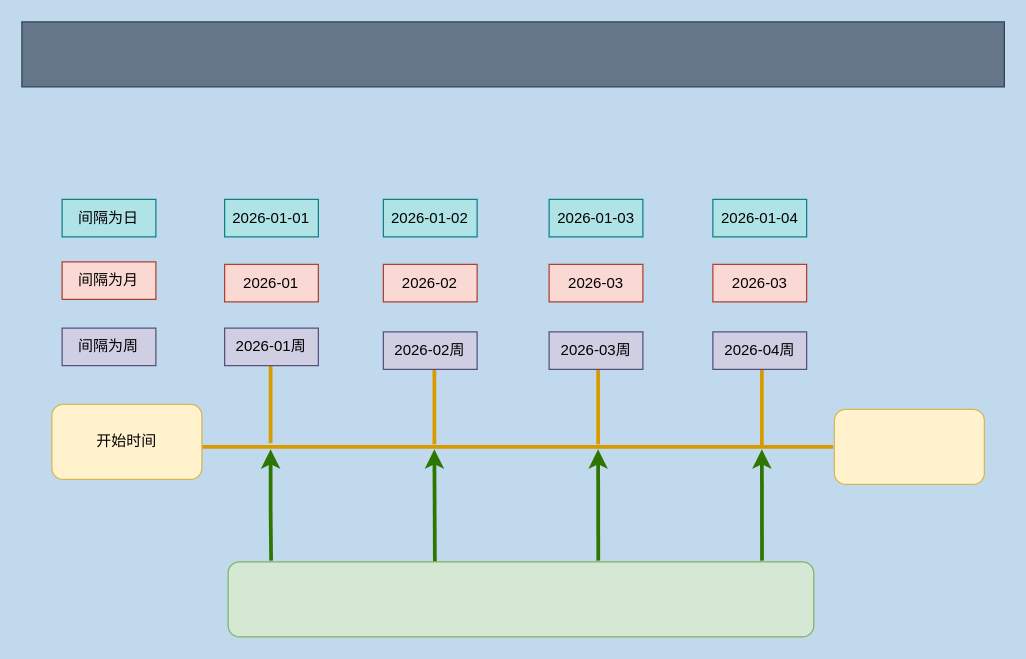
Image size: 1026x659. Some labels were removed from this diagram. Here are the shapes that lost their labels. From the top down, the centre of each, then its label:
At pixel 512 54: "查询瞬时数据的历史值".
At pixel 908 446: "结束时间".
At pixel 520 599: "获取当前时刻记录的值".
